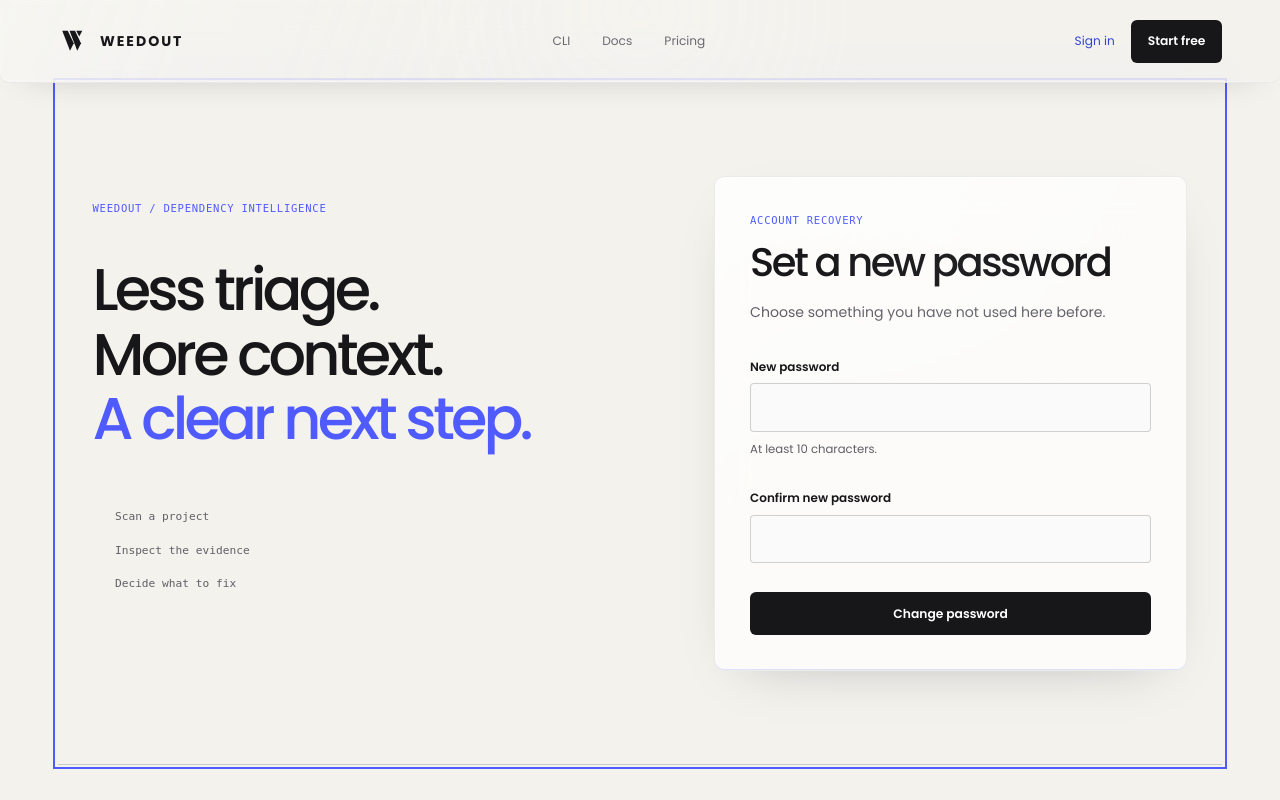
Test: password recovery › refuses to submit a mistyped confirmation
The width and height of the screenshot is (1280, 800).
Type "a-brand-new-password" into the password field labelled "New password".
click(951, 408); type("a-brand-new-password")  # box [750,383,1151,432]
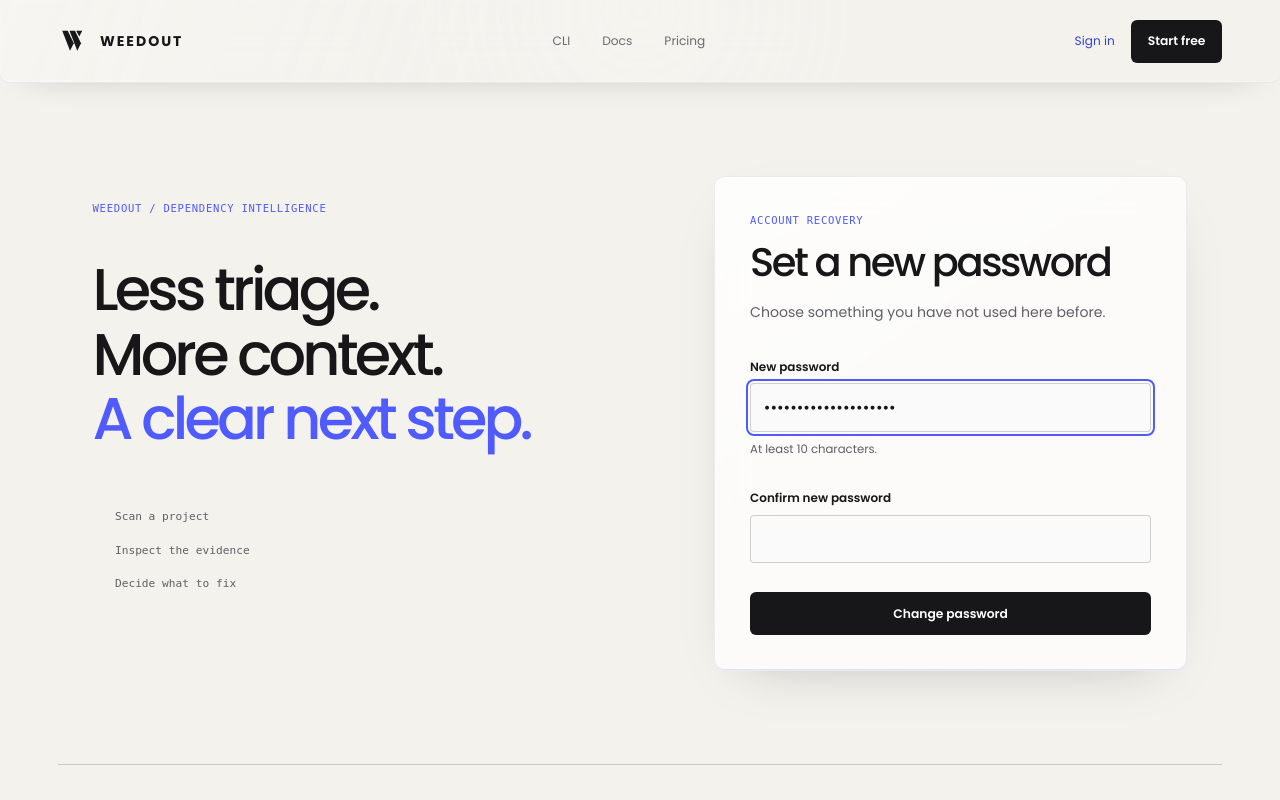
Type "a-brand-new-passwrod" into the password field labelled "Confirm new password".
click(951, 539); type("a-brand-new-passwrod")  # box [750,515,1151,563]
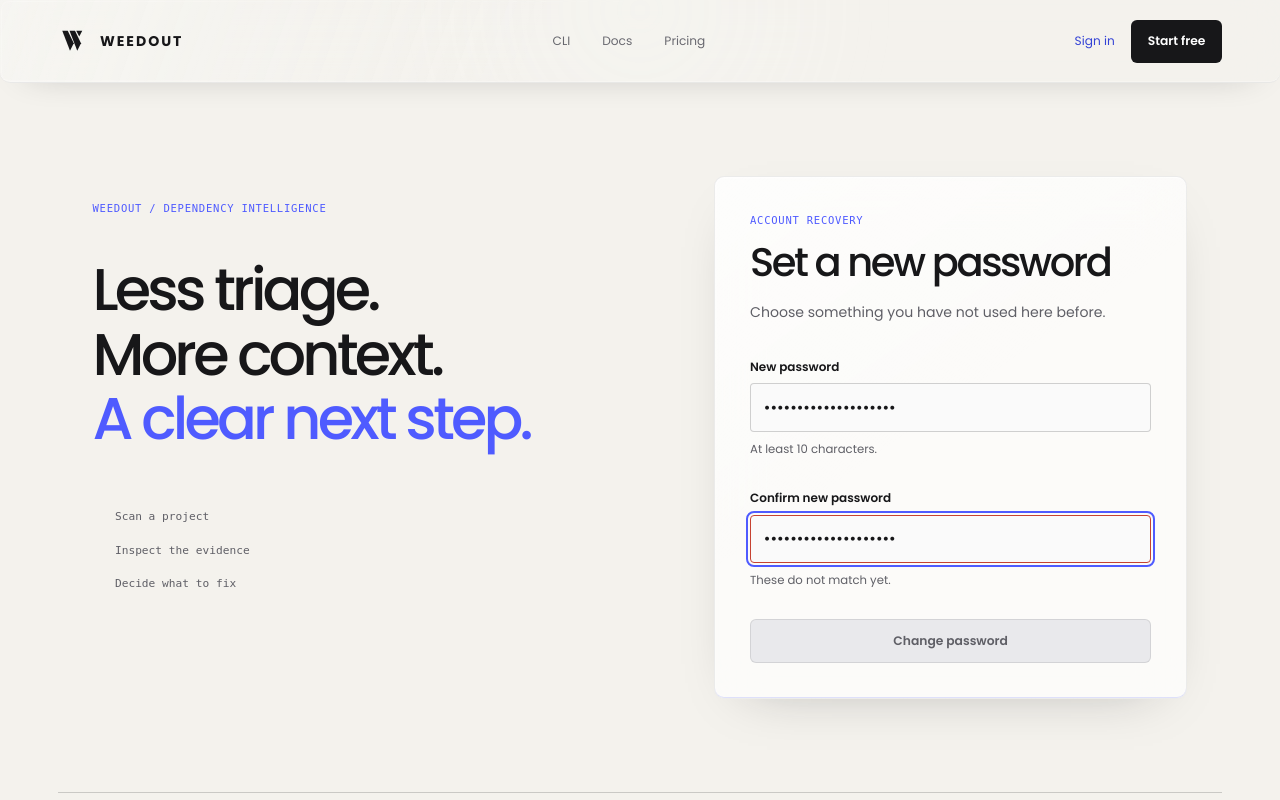
Expected: the button "Change password" is disabled, [750,619,1151,663]
